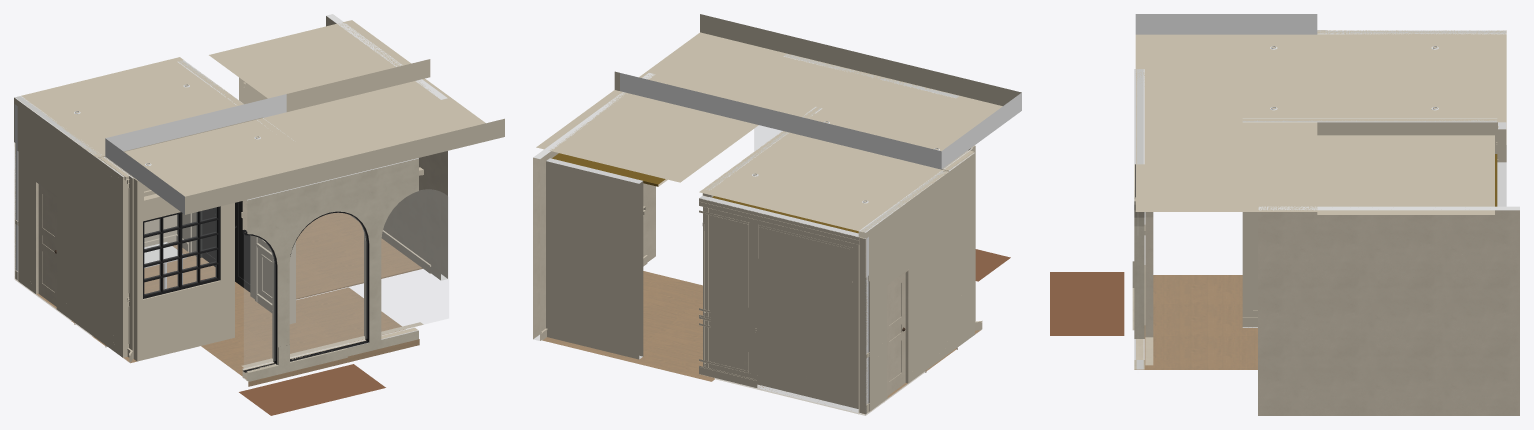
File: office-west-10158e1589a3.glb
The picture shows the model from 3 angles, left to right: view 1: azimuth 30°, elevation 25°; view 2: azimuth 150°, elevation 25°; view 3: azimuth 270°, elevation 25°; orthographic projection. The views are drawn at different scales.
Parts seen in each view (by area): view 1: office-west-look-dbd60ee5c3733ed6, office-west-6a051330000fbca1, office-west-look-c9e78b9ec1bb39cd, office-west-look-2575515a05775d9e, office-west-2575515a05775d9e, office-west-look-c02a36d0521470a9, office-west-a822d30aa9e2c55a, office-west-look-5cbcc744e6f960f3, office-west-look-c374268555806af8, office-west-look-3b0077416469e01b, office-west-look-6a1144f4e43410bb, office-west-dbd60ee5c3733ed6 (+17 smaller); view 2: office-west-look-dbd60ee5c3733ed6, office-west-19647d6da46c2b80, office-west-6a051330000fbca1, office-west-look-19647d6da46c2b80, office-west-2575515a05775d9e, office-west-look-2575515a05775d9e, office-west-look-3b0077416469e01b, office-west-look-6a1144f4e43410bb, office-west-80d276f58a4dc5cb, office-west-dbd60ee5c3733ed6, office-west-7b51444cc162b982, office-west-72f8f5982ac3dc36 (+9 smaller); view 3: office-west-look-6a1144f4e43410bb, office-west-look-dbd60ee5c3733ed6, office-west-2575515a05775d9e, office-west-look-2575515a05775d9e, office-west-look-c374268555806af8, office-west-dbd60ee5c3733ed6, office-west-look-aee2d046b0172b1e, office-west-72f8f5982ac3dc36, office-west-look-c9e78b9ec1bb39cd, office-west-0811b6b476584948, office-west-look-e54cb06e326b7f4f, office-west-6a051330000fbca1 (+5 smaller).
Boxes of the visible parts, x1,y1,x2,y2 form: office-west-look-dbd60ee5c3733ed6: (105,78,504,214); office-west-6a051330000fbca1: (14,96,133,358); office-west-look-c9e78b9ec1bb39cd: (242,158,418,380); office-west-look-2575515a05775d9e: (209,20,430,111); office-west-2575515a05775d9e: (21,57,263,158); office-west-look-c02a36d0521470a9: (290,213,367,356); office-west-a822d30aa9e2c55a: (133,141,285,361); office-west-look-5cbcc744e6f960f3: (381,189,448,334); office-west-look-c374268555806af8: (201,287,419,386); office-west-look-3b0077416469e01b: (296,212,422,299); office-west-look-6a1144f4e43410bb: (326,14,447,280); office-west-dbd60ee5c3733ed6: (105,119,295,179); office-west-look-dbd60ee5c3733ed6: (620,14,1021,168); office-west-19647d6da46c2b80: (699,195,859,412); office-west-6a051330000fbca1: (858,148,974,413); office-west-look-19647d6da46c2b80: (546,158,643,359); office-west-2575515a05775d9e: (699,131,948,232); office-west-look-2575515a05775d9e: (536,71,758,182); office-west-look-3b0077416469e01b: (542,271,714,381); office-west-look-6a1144f4e43410bb: (533,73,655,340); office-west-80d276f58a4dc5cb: (887,273,905,395); office-west-dbd60ee5c3733ed6: (782,112,974,169); office-west-7b51444cc162b982: (699,198,859,244); office-west-72f8f5982ac3dc36: (703,107,822,367); office-west-look-6a1144f4e43410bb: (1258,206,1519,415); office-west-look-dbd60ee5c3733ed6: (1135,14,1317,211); office-west-2575515a05775d9e: (1317,30,1506,122); office-west-look-2575515a05775d9e: (1317,135,1494,214); office-west-look-c374268555806af8: (1134,275,1257,369); office-west-dbd60ee5c3733ed6: (1242,34,1317,118); office-west-look-aee2d046b0172b1e: (1050,272,1124,335); office-west-72f8f5982ac3dc36: (1242,118,1498,327); office-west-look-c9e78b9ec1bb39cd: (1134,69,1144,369); office-west-0811b6b476584948: (1317,122,1497,130); office-west-look-e54cb06e326b7f4f: (1145,212,1153,365); office-west-6a051330000fbca1: (1317,30,1506,162).
Size of the model in its own units: 5.77 by 3.4 by 6.21.
27 materials, 5 textured.
